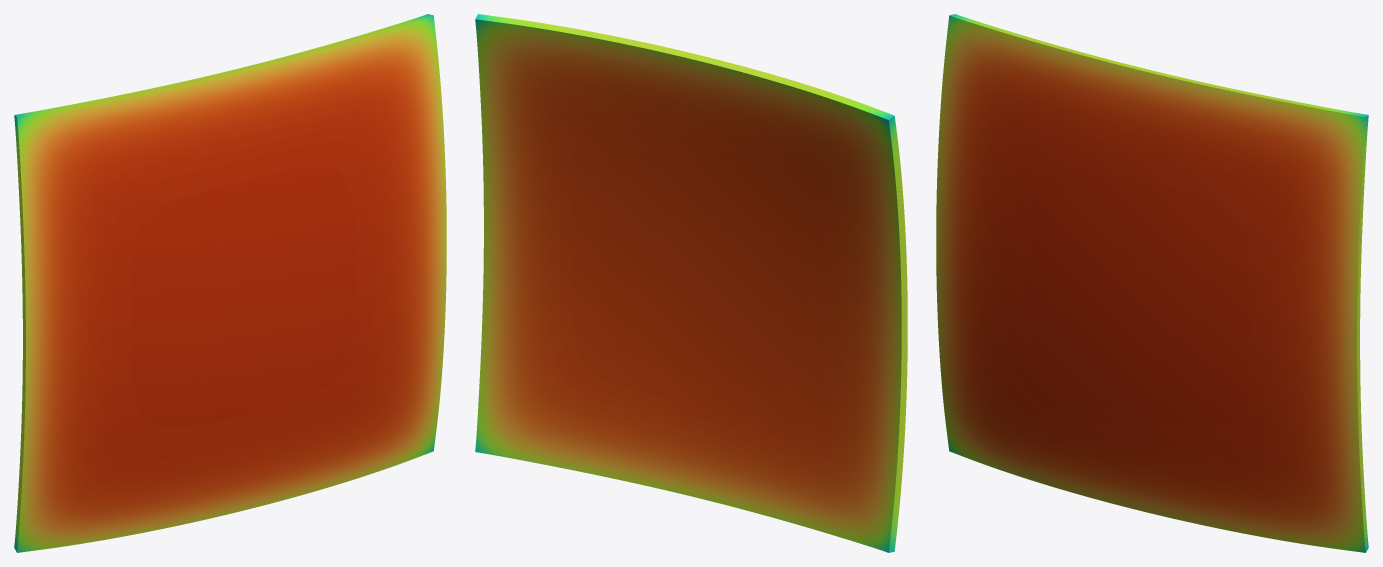
The model's file is DISP_PEEK_2mm.gltf.
3 views of the same model, side by side, from view 1: azimuth 30°, elevation 25°; view 2: azimuth 150°, elevation 25°; view 3: azimuth 330°, elevation 25° (orthographic).
Parts seen in each view (by area): view 1: Renderer Node; view 2: Renderer Node; view 3: Renderer Node.
Boxes of the visible parts, x1,y1,x2,y2 form: Renderer Node: [14, 14, 446, 552]; Renderer Node: [475, 14, 907, 552]; Renderer Node: [936, 14, 1368, 552].
Size of the model in its own units: 138 by 138 by 15.
Materials: 1 (1 with a texture image).
